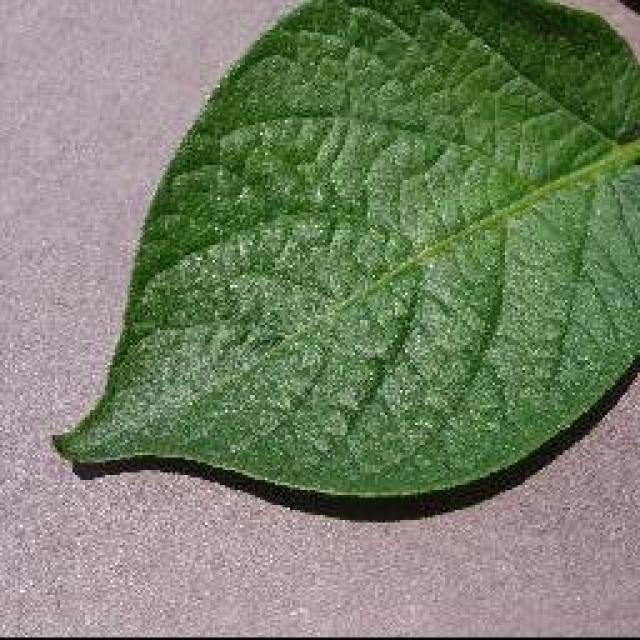Potato___healthy: (44, 0, 638, 502)
